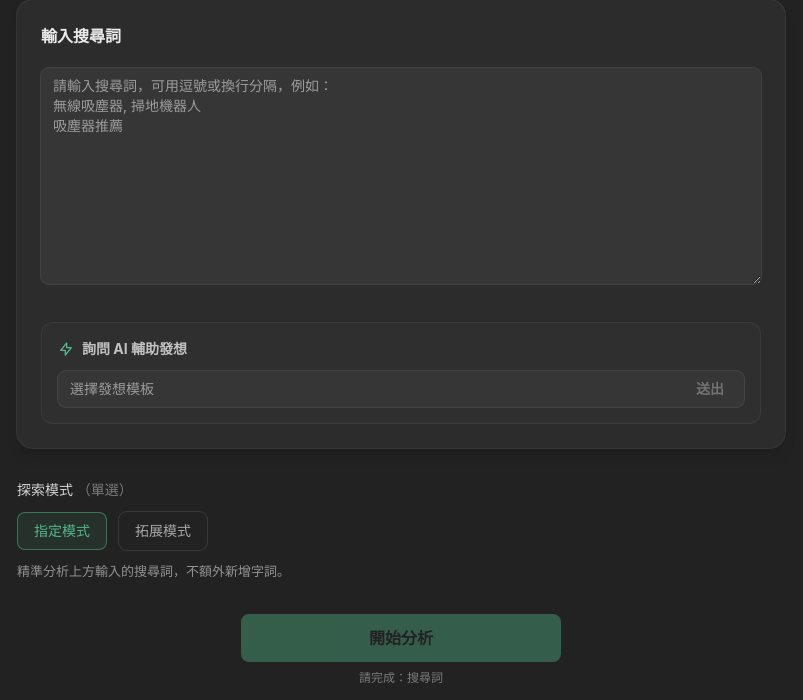
Test: TC-13 · HomeRoute create-analysis form (seeds gate + inline errors) › renders an inline seeds error from a 400 ErrorResponse.fields body
Type "x" into the text box labelled "輸入搜尋詞". click: (401,176)
box: [41,68,761,284]
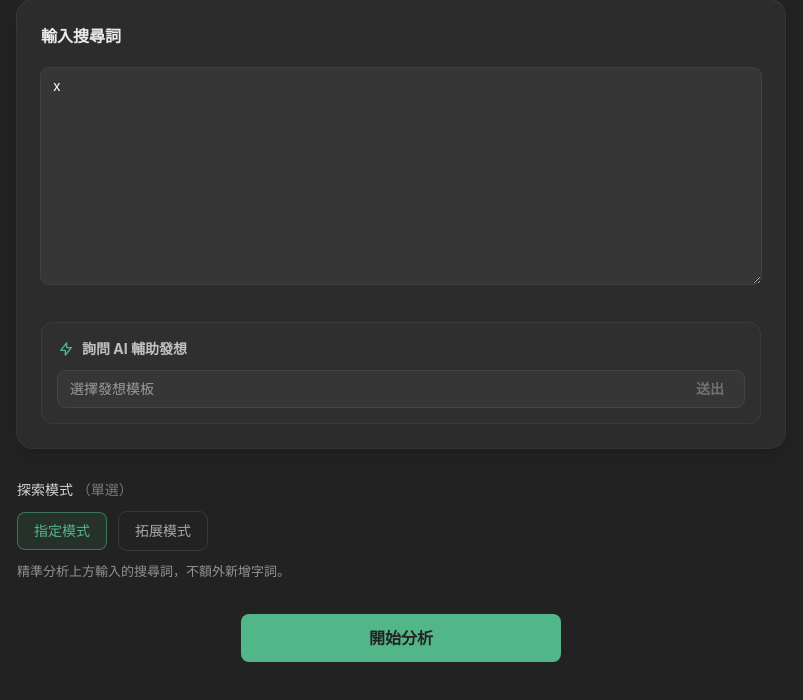
Click the button "開始分析". click: (401,638)
box: [241,614,561,662]
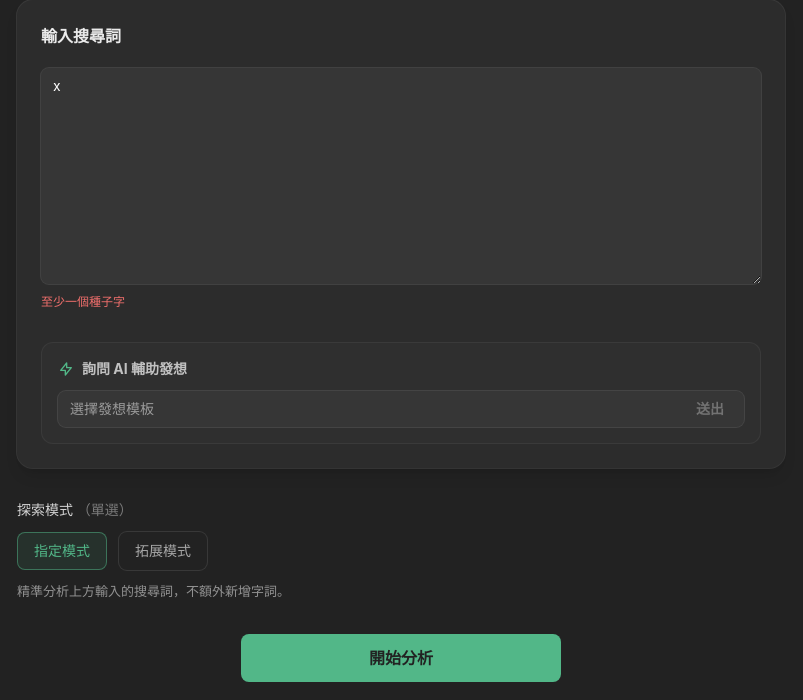
Now the list item "至少一個種子字" is shown, box [41,294,125,309]
